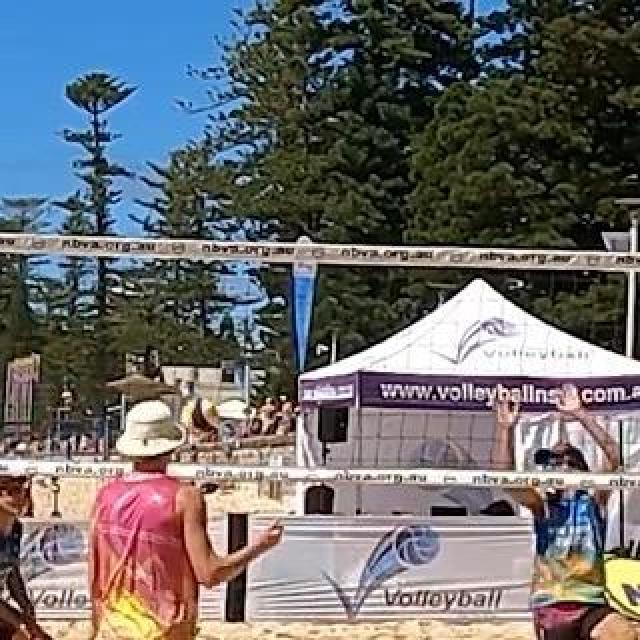volleyball: (183, 399, 219, 433)
